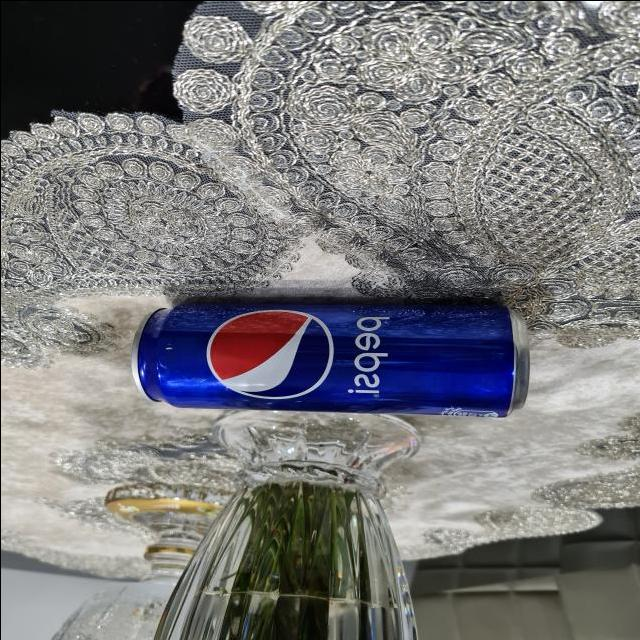can: (131, 292, 538, 412)
